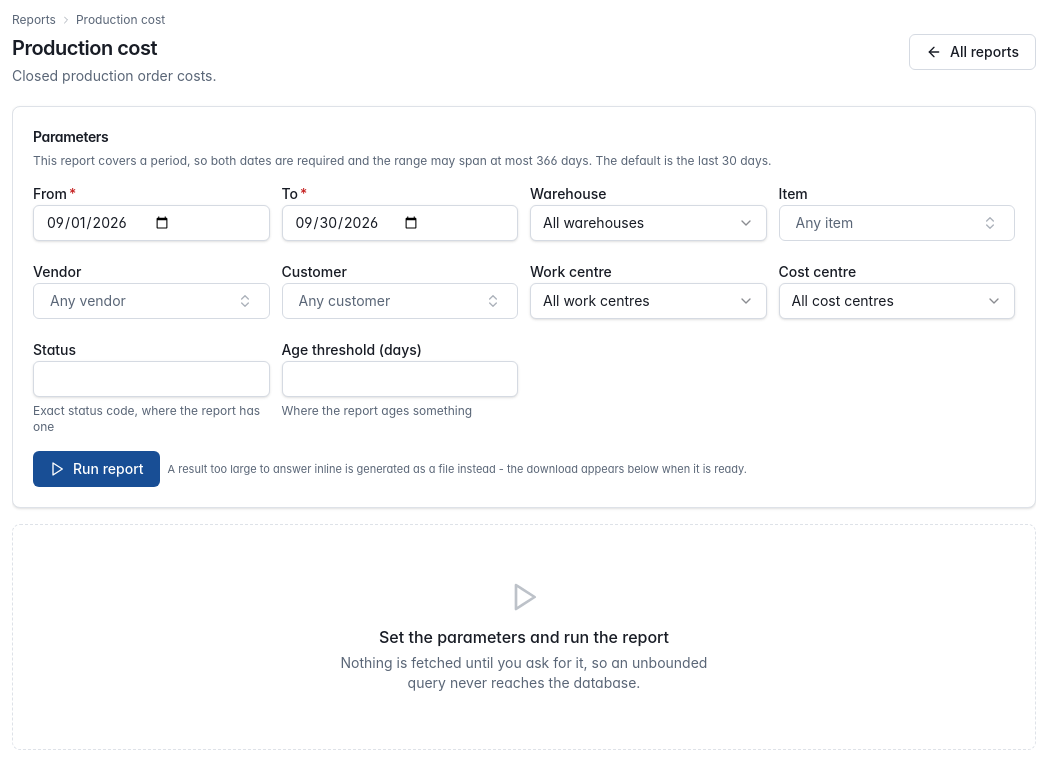
Scenario: production cost filters › sends the selected work centre and cost centre to the report route
Click the dropdown labelled "work centre".
click(648, 301)  # box x1=530 y1=283 x2=766 y2=319
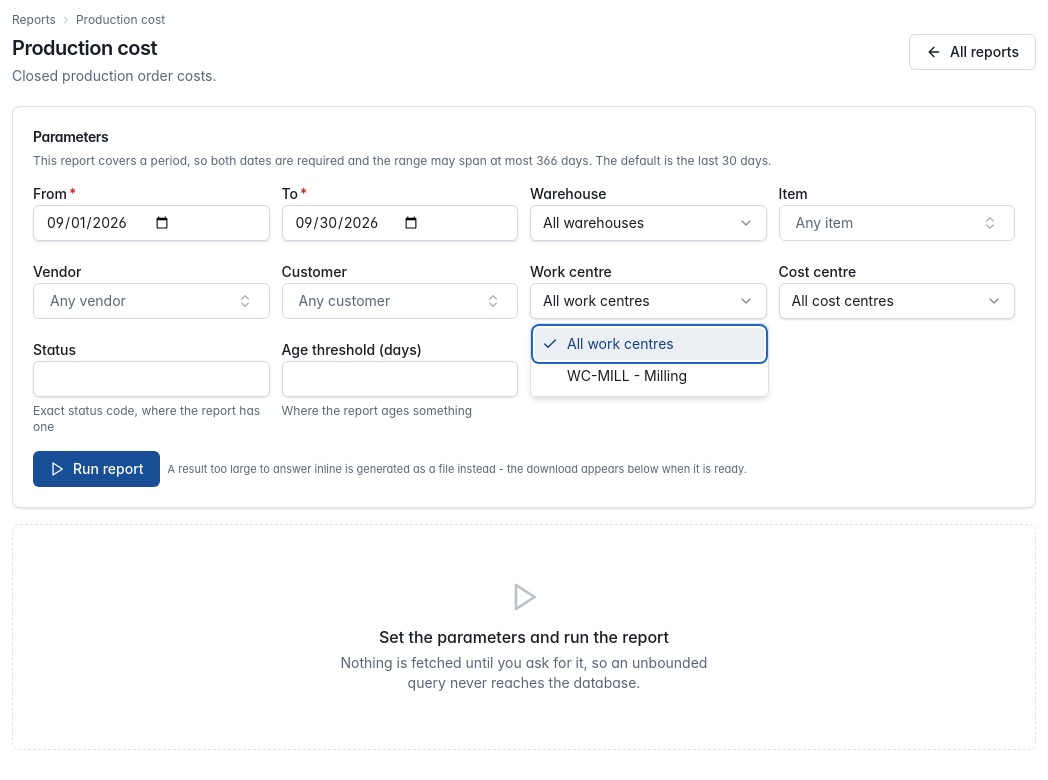
Click the option "WC-MILL - Milling".
click(627, 376)  # box x1=567 y1=367 x2=687 y2=384
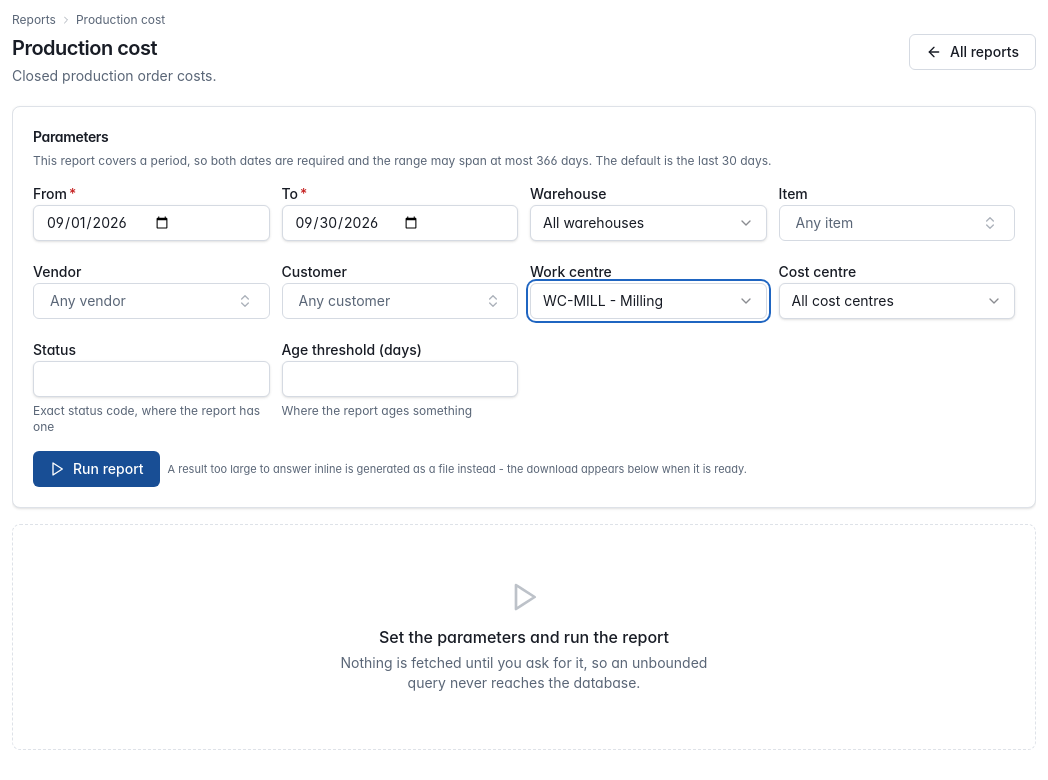
Click the dropdown labelled "cost centre".
click(897, 301)  # box x1=778 y1=283 x2=1015 y2=319
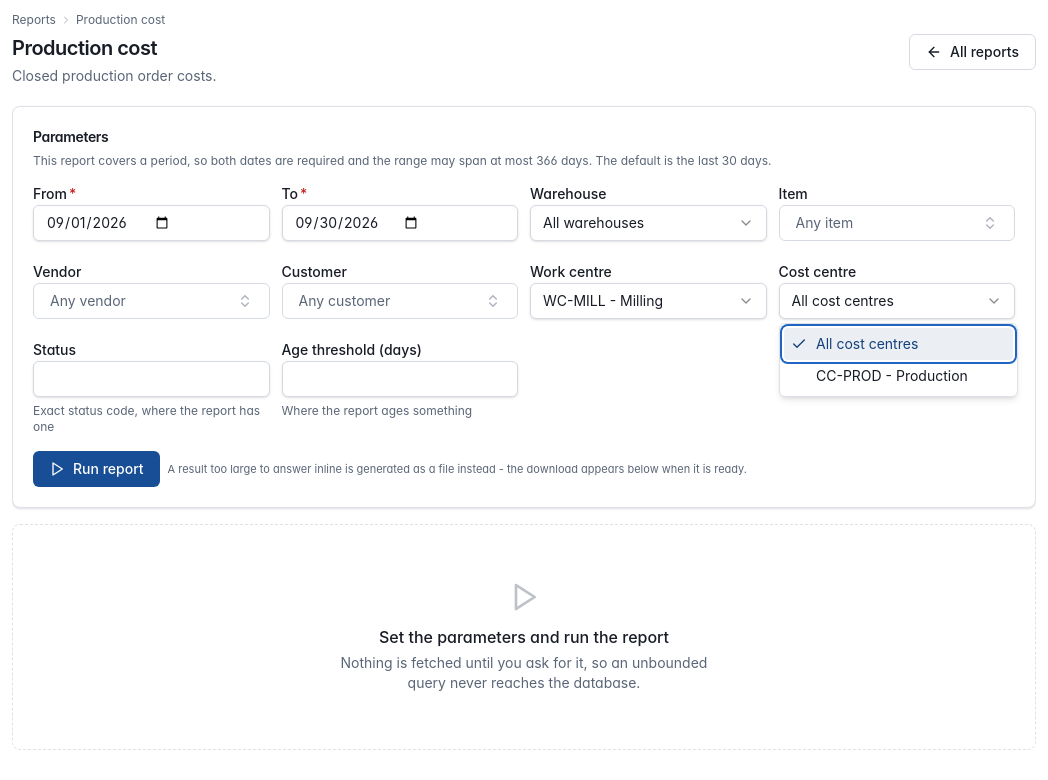
Click the option "CC-PROD - Production".
click(892, 376)  # box x1=816 y1=367 x2=968 y2=384
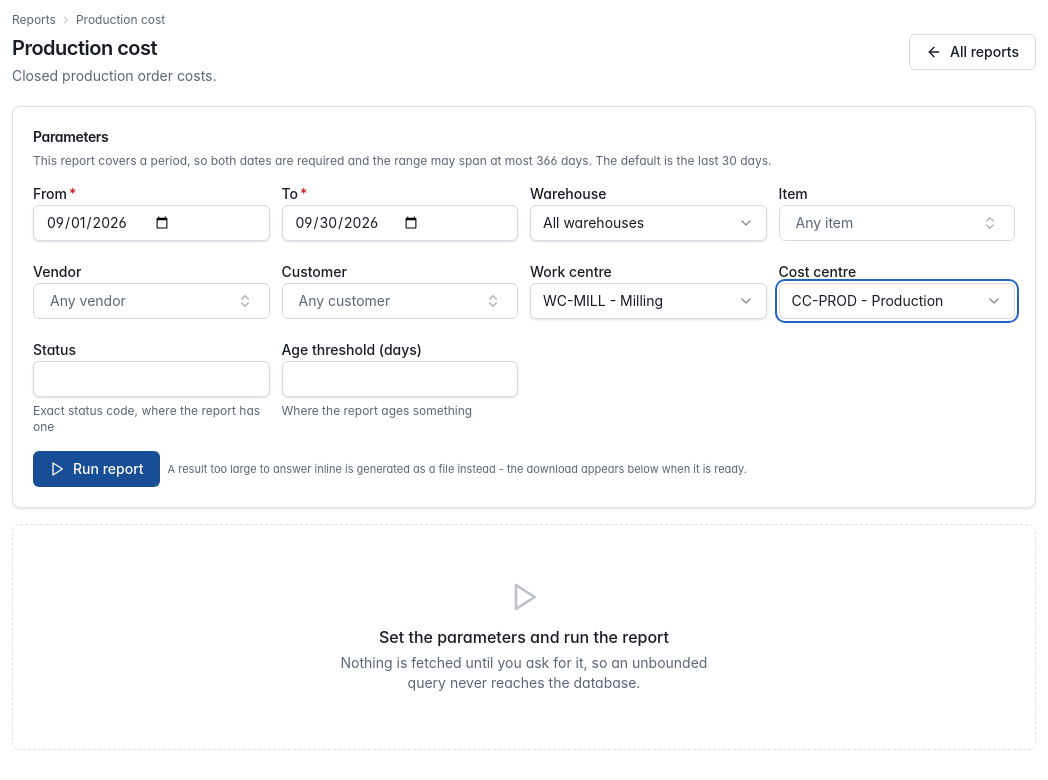
Click the button "Run report".
click(96, 469)  # box x1=33 y1=451 x2=160 y2=487
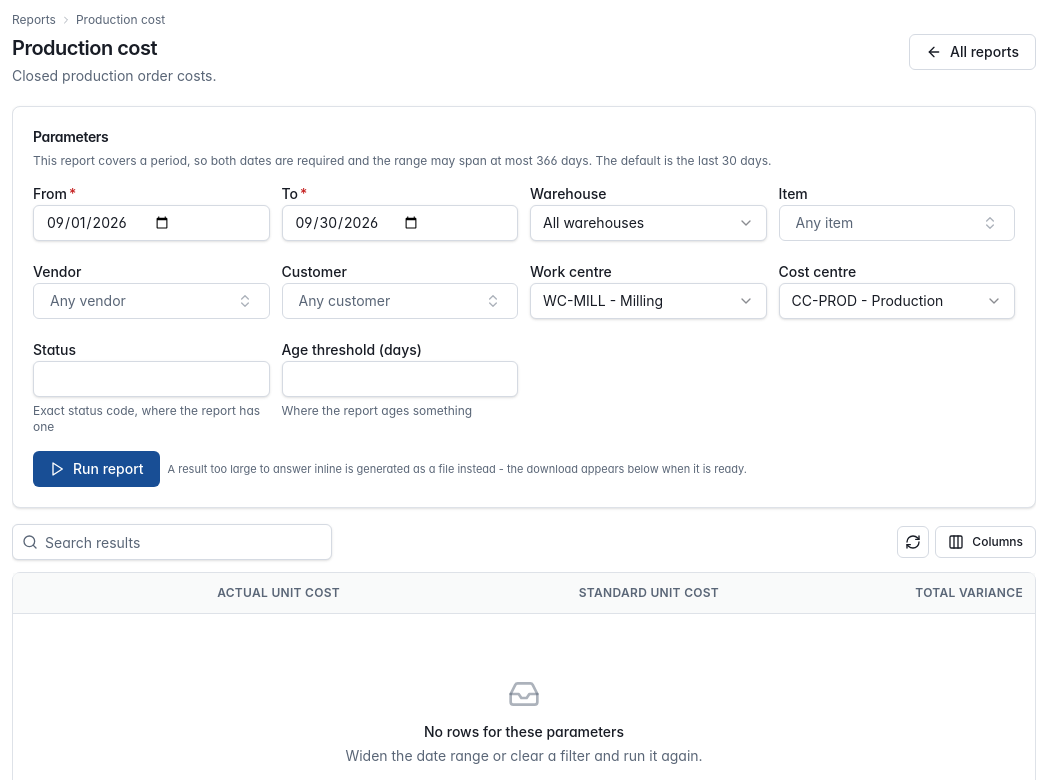
Expected: the text "No rows for these parameters" is shown, x1=424 y1=722 x2=624 y2=740
